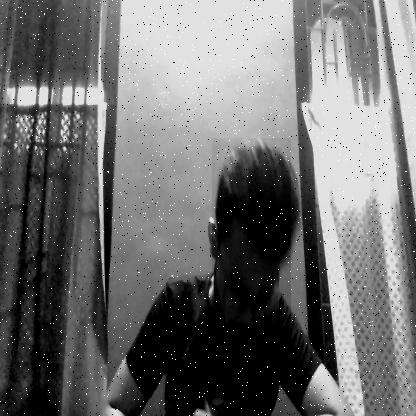Normal: (212, 138, 291, 354)
